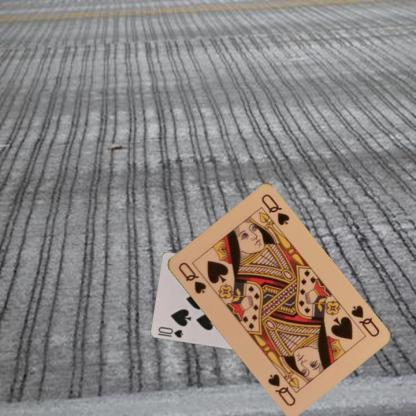10s: (156, 324, 185, 339)
Qs: (348, 302, 380, 339), (175, 259, 207, 295)
